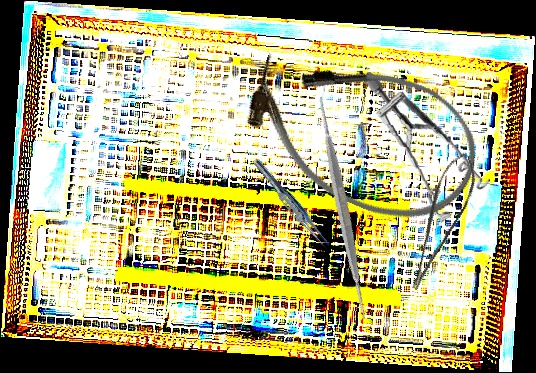Cannula: (227, 25, 497, 243)
Micro Scissor: (387, 148, 489, 293)
Spatula Surgical: (220, 87, 464, 331)
Speculum: (361, 62, 494, 230)
Tissue Forceps: (248, 155, 336, 254)
